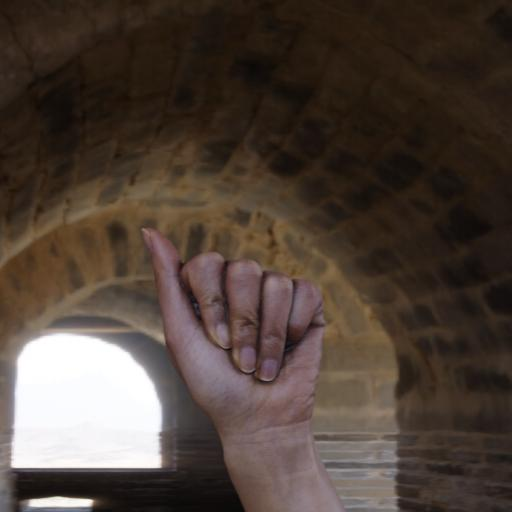A: (132, 217, 362, 512)
